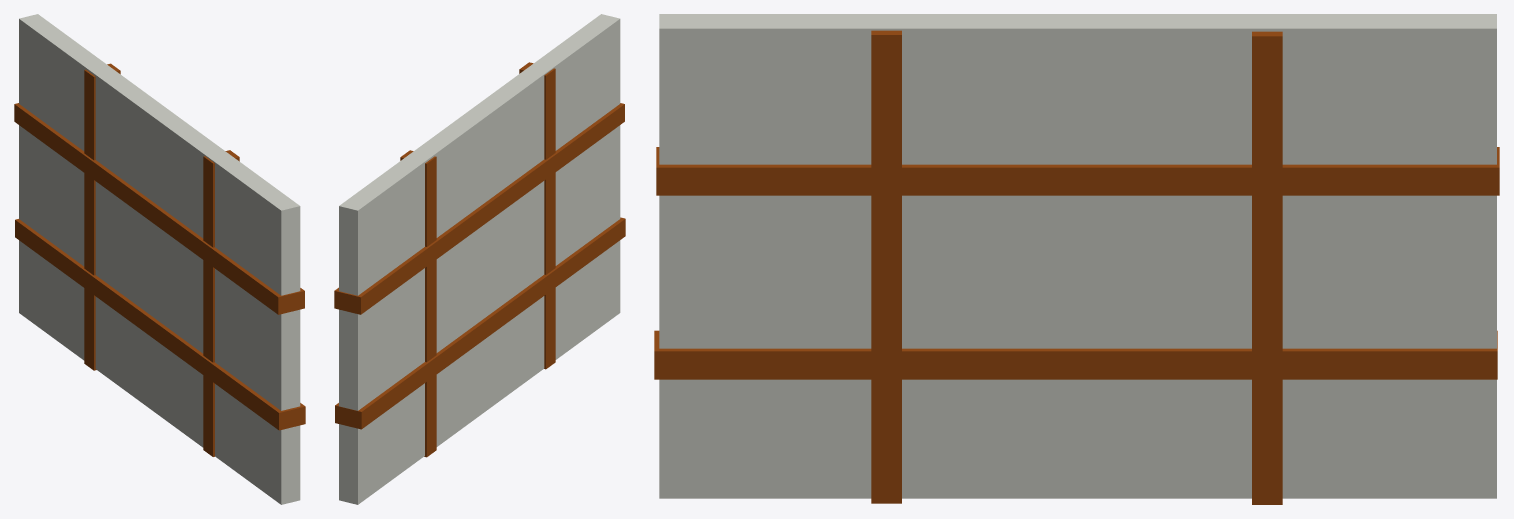
File: NormalWall1.fbx
3 renders of one model, left to right at view 1: azimuth 30°, elevation 25°; view 2: azimuth 150°, elevation 25°; view 3: azimuth 270°, elevation 25°, orthographic. The views are drawn at different scales.
Parts seen in each view (by area): view 1: NormalWall1; view 2: NormalWall1; view 3: NormalWall1.
Boxes of the visible parts, bbox=[...] form: NormalWall1: bbox=[14, 14, 305, 504]; NormalWall1: bbox=[334, 14, 625, 504]; NormalWall1: bbox=[654, 14, 1499, 504].
Bounding box in the file's own units: 113 × 1115 × 1810.
